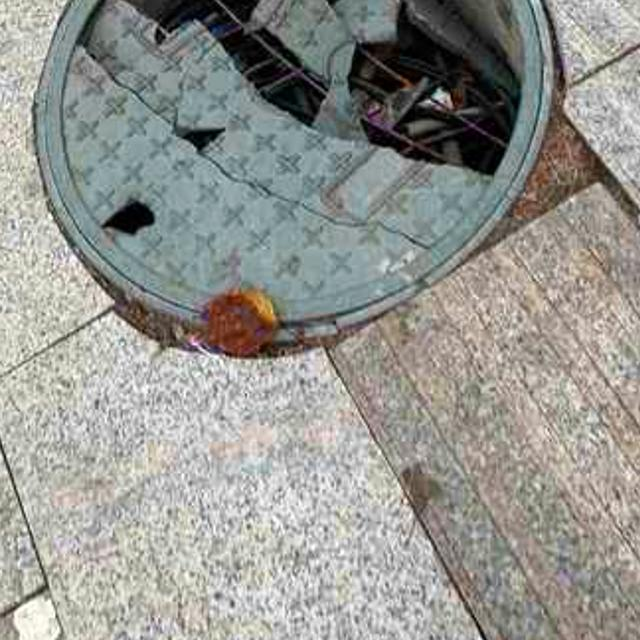broke: (11, 0, 570, 367)
